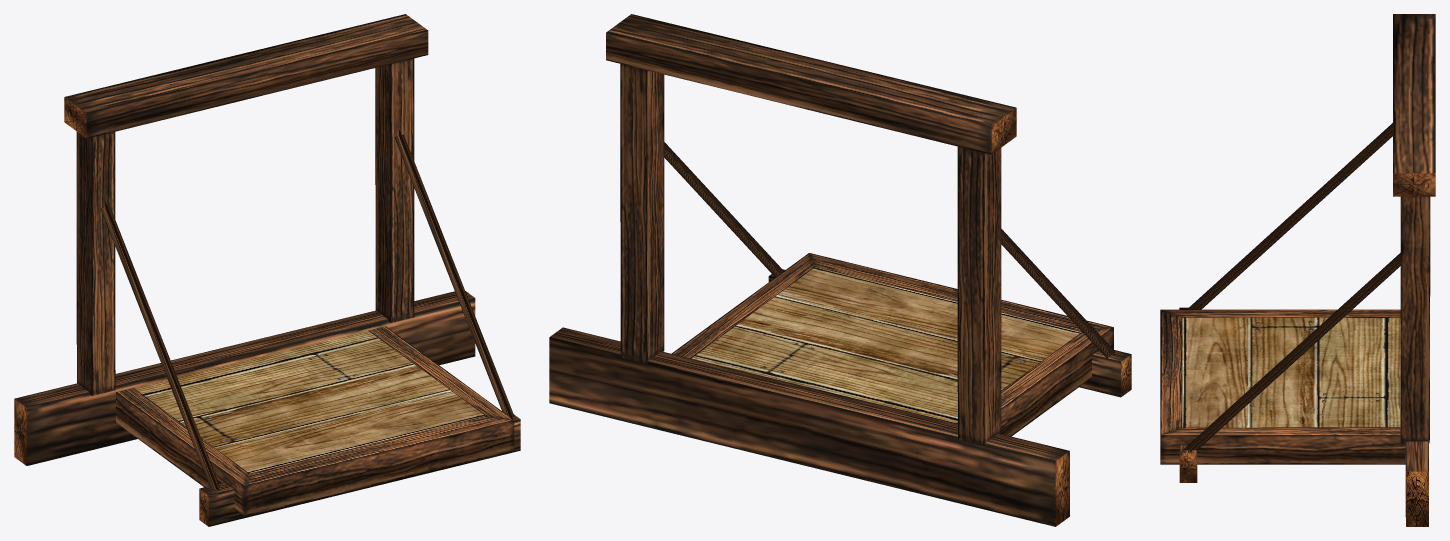
File: LAKETOWN_WAREHOUSE2_PS_WH2_PLAT_3635__GX01.fbx
3 views of the same model, side by side, from view 1: azimuth 30°, elevation 25°; view 2: azimuth 150°, elevation 25°; view 3: azimuth 270°, elevation 25° (orthographic). The views are drawn at different scales.
Parts seen in each view (by area): view 1: LAKETOWN_WAREHOUSE2_PS_WH2_PLAT_3635__GX01; view 2: LAKETOWN_WAREHOUSE2_PS_WH2_PLAT_3635__GX01; view 3: LAKETOWN_WAREHOUSE2_PS_WH2_PLAT_3635__GX01.
Part boxes in pixels (left/top/right/bottom): LAKETOWN_WAREHOUSE2_PS_WH2_PLAT_3635__GX01: left=14, top=14, right=520, bottom=526; LAKETOWN_WAREHOUSE2_PS_WH2_PLAT_3635__GX01: left=549, top=14, right=1131, bottom=526; LAKETOWN_WAREHOUSE2_PS_WH2_PLAT_3635__GX01: left=1160, top=14, right=1435, bottom=526.
Bounding box in the file's own units: 33243 × 24378 × 18506.
Materials: 5 (5 with a texture image).
